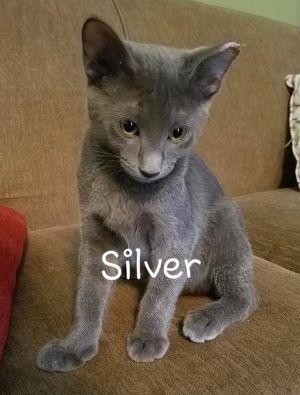rblue: (74, 8, 245, 191)
